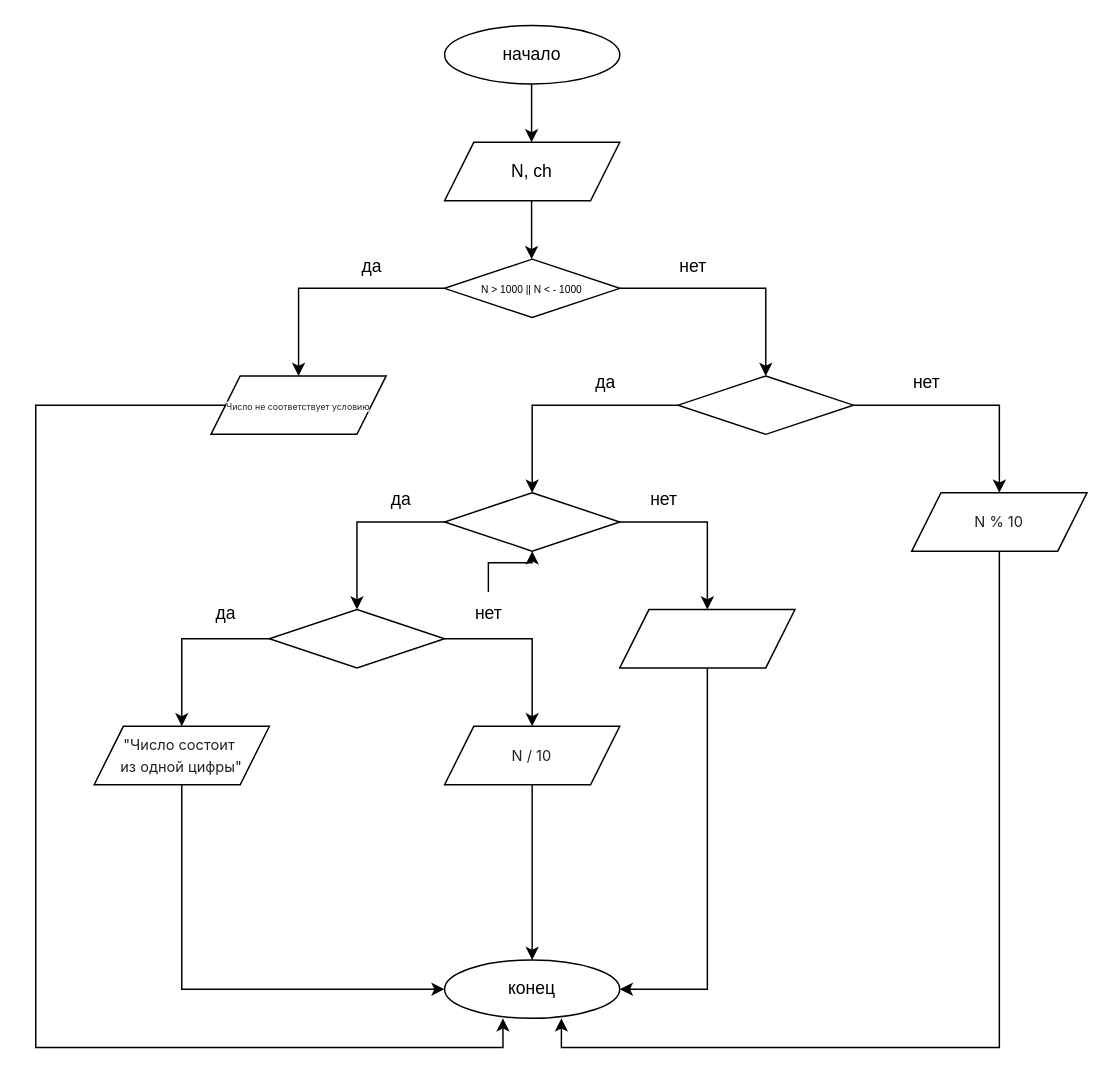
Some shapes in this 1113 by 1085 pixel diagram are drawn without their labels. The box of each missing label's shape, as (x1, y1, x2, y2) in pixels:
ch = 0: (677, 374, 853, 434)
N / 100: (618, 608, 795, 668)
N < 10: (268, 608, 445, 668)
N < 100: (443, 491, 620, 551)
